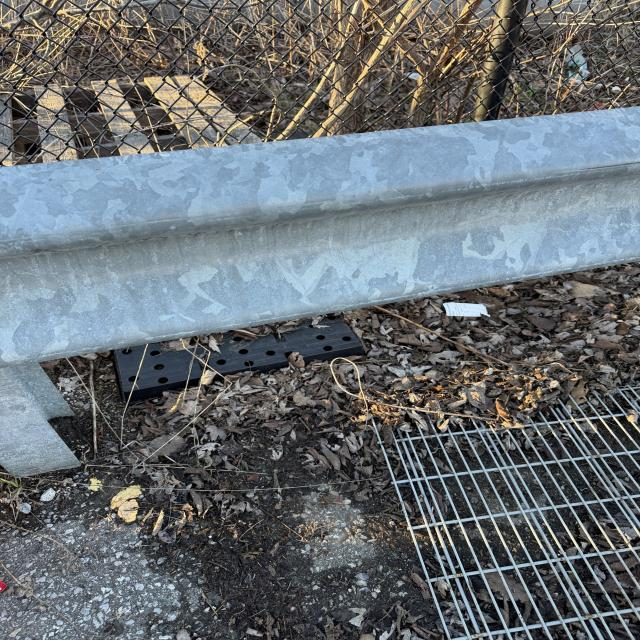Guard rail: (28, 123, 640, 330)
